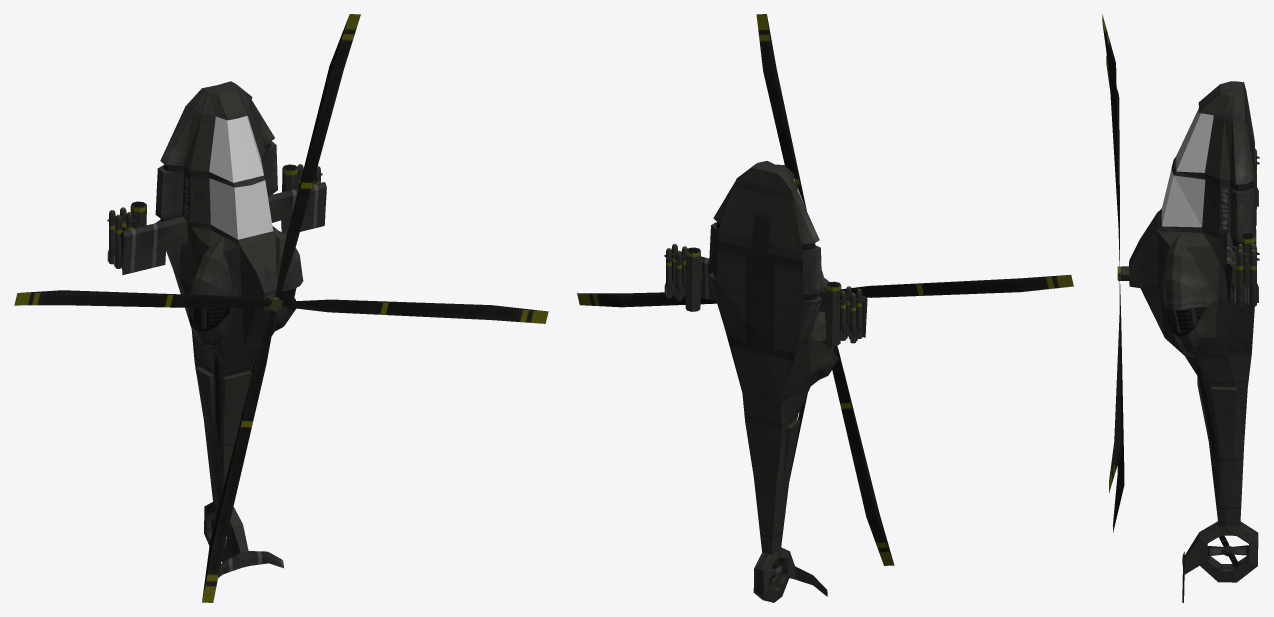
Rendered from gunshiponesurface_wtf.obj.
3 views of the same model, side by side, from view 1: azimuth 30°, elevation 25°; view 2: azimuth 150°, elevation 25°; view 3: azimuth 270°, elevation 25° (orthographic). The views are drawn at different scales.
Visible parts, largest first — view 1: group3, group4; view 2: group3; view 3: group3, group4.
Part boxes in pixels (x1,y1,x2,y2): group3: [14, 14, 548, 602]; group4: [209, 115, 273, 239]; group3: [577, 14, 1073, 602]; group3: [1102, 14, 1259, 602]; group4: [1161, 108, 1213, 227].
Size of the model in its own units: 643 by 660 by 156.
